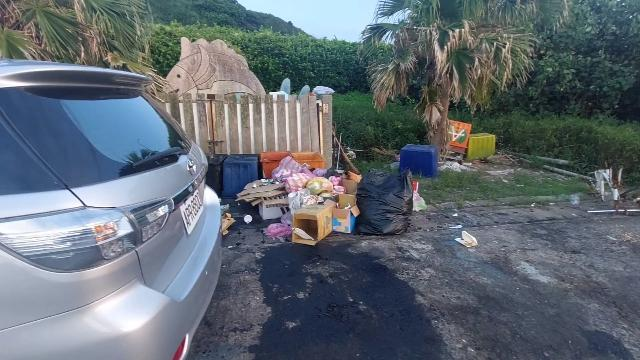pollute: (205, 143, 440, 247), (439, 120, 498, 164), (587, 167, 638, 214), (453, 231, 478, 247)
